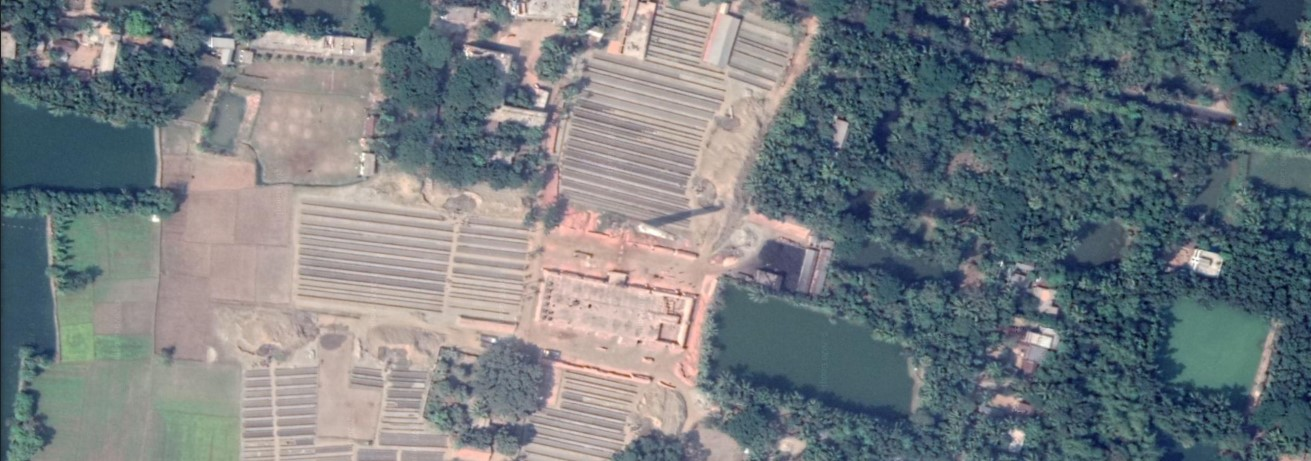kiln: (564, 199, 704, 347)
